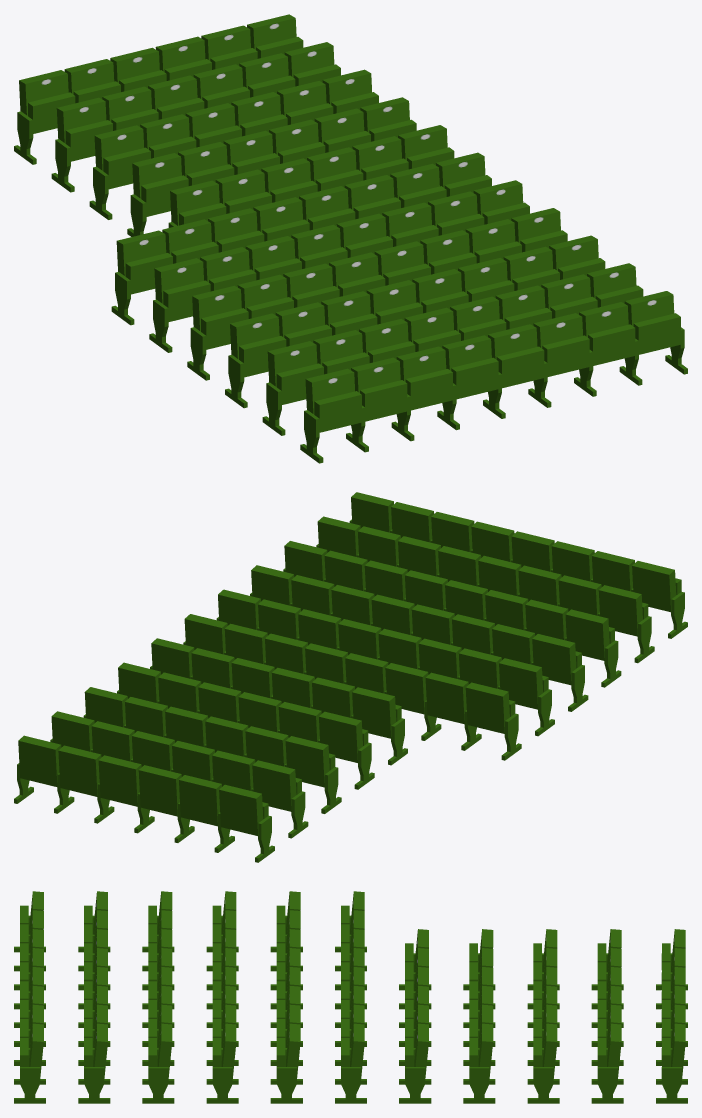
The model's file is Seats_Section3E.FBX.
3 renders of one model, top to bottom at view 1: azimuth 30°, elevation 25°; view 2: azimuth 150°, elevation 25°; view 3: azimuth 270°, elevation 25°, orthographic. The views are drawn at different scales.
Parts seen in each view (by area): view 1: Box011; view 2: Box011; view 3: Box011.
Part boxes in pixels (x1,y1,x2,y2): Box011: (14,14,687,463); Box011: (14,492,687,862); Box011: (14,891,687,1103).
Size of the model in its own units: 3.32 by 0.6188 by 6.18.
